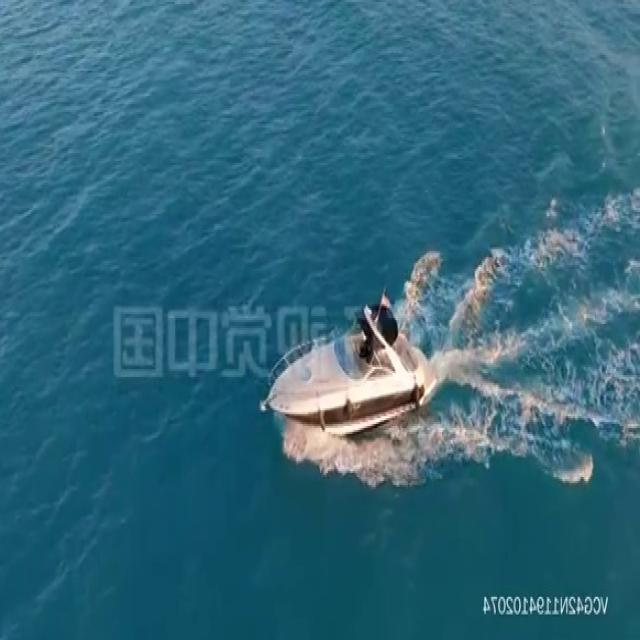houseboat: (265, 287, 432, 435)
